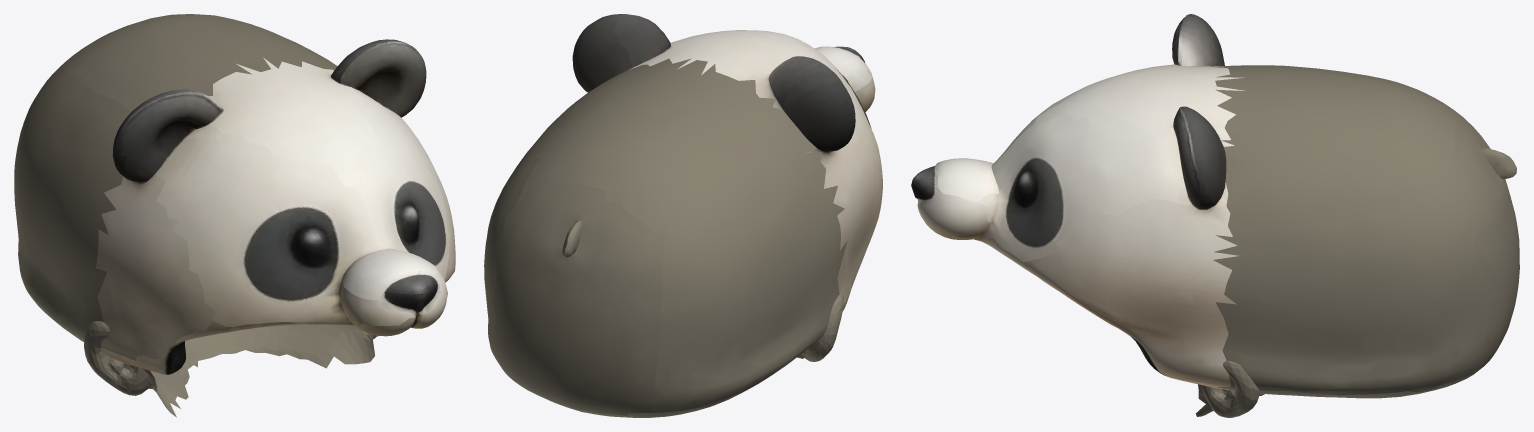
Rendered from panda.glb.
The picture shows the model from 3 angles, left to right: view 1: azimuth 30°, elevation 25°; view 2: azimuth 150°, elevation 25°; view 3: azimuth 270°, elevation 25°; orthographic projection. The views are drawn at different scales.
Visible parts, largest first — view 1: geometry_0, HoodAnatomicalLining; view 2: geometry_0, HoodAnatomicalLining; view 3: geometry_0, HoodAnatomicalLining.
Part boxes in pixels (box(x1,y1,x2,y2)): geometry_0: box(14, 14, 455, 374); HoodAnatomicalLining: box(84, 321, 378, 417); geometry_0: box(484, 14, 882, 417); HoodAnatomicalLining: box(797, 293, 843, 361); geometry_0: box(911, 14, 1519, 398); HoodAnatomicalLining: box(1195, 361, 1264, 417).
Size of the model in its own units: 0.515 by 0.5128 by 0.9069.
2 materials, 1 textured.
